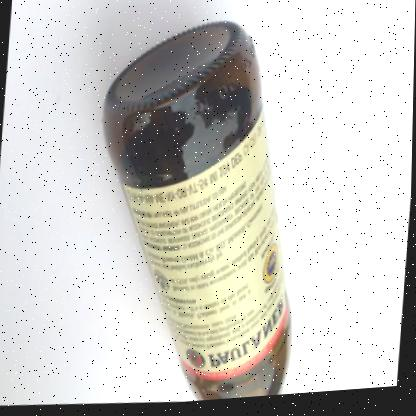Glass: (101, 24, 291, 403)
